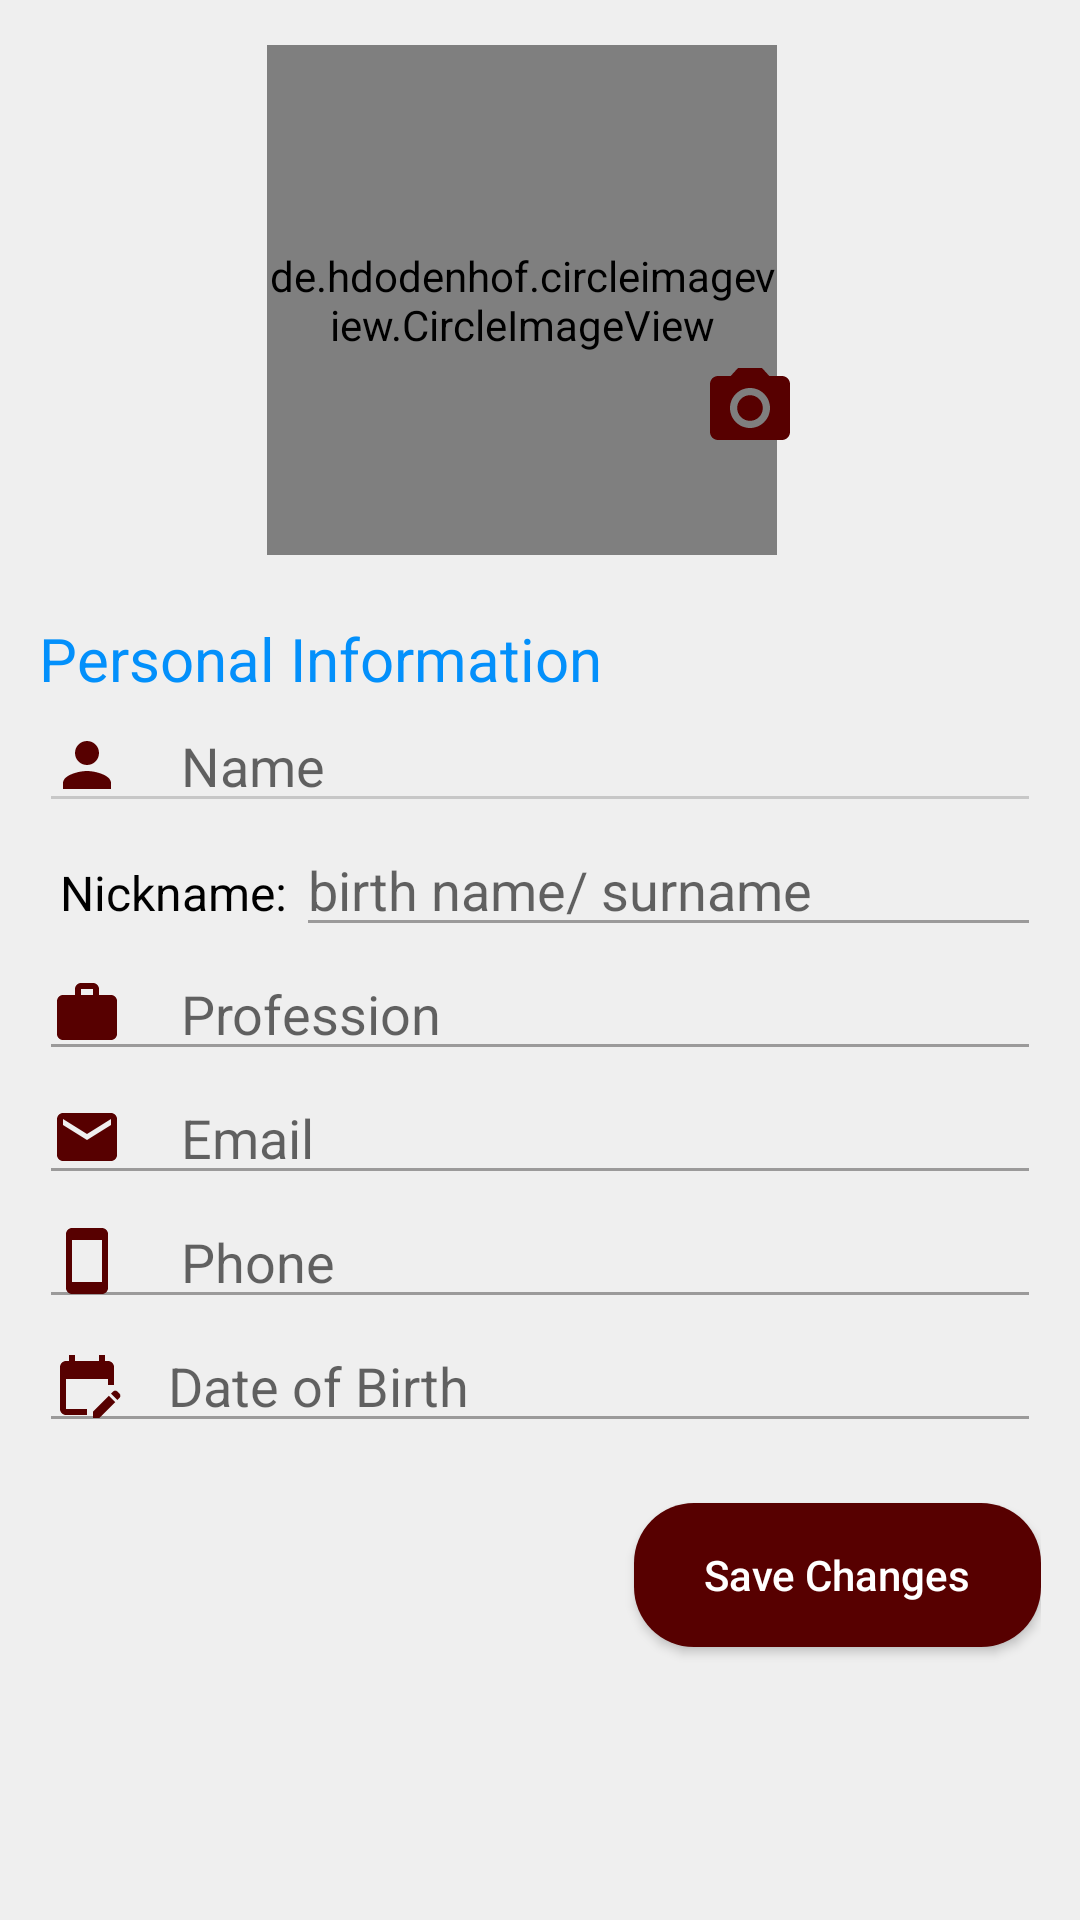

Icons on this 1080x1920 Android screen, each with the point to tap as (x,y):
camera: (750,408)
